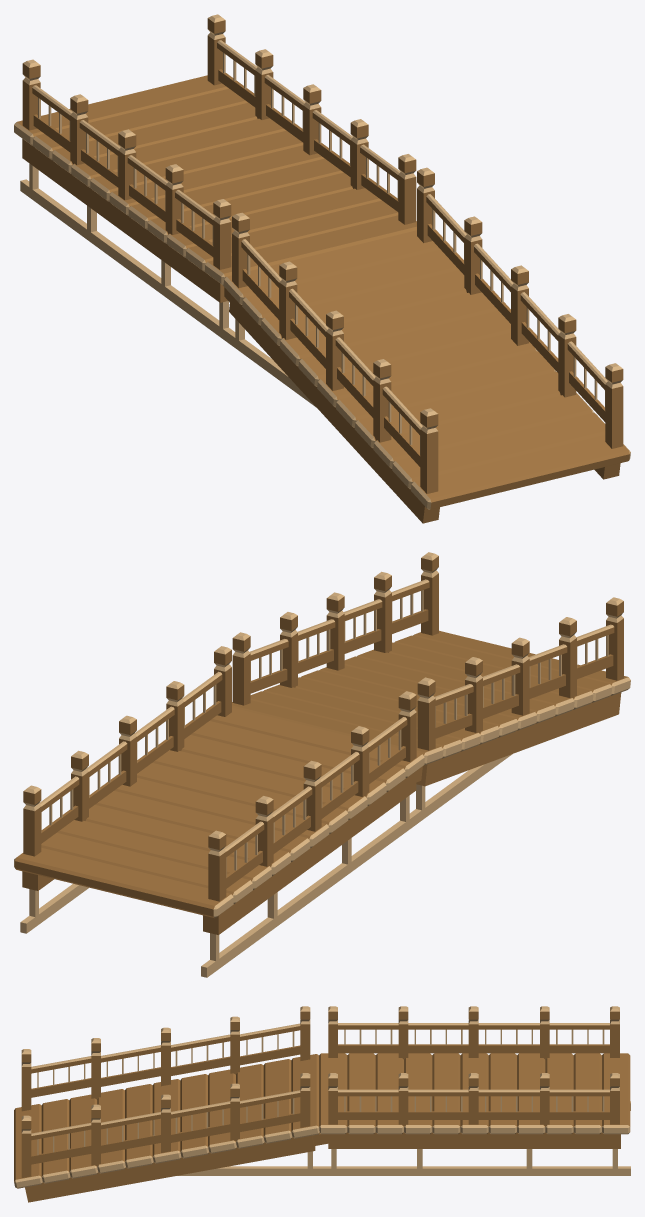
Rendered from woodenBridge.fbx.
3 views of the same model, one above another, from view 1: azimuth 30°, elevation 25°; view 2: azimuth 150°, elevation 25°; view 3: azimuth 270°, elevation 25° (orthographic). The views are drawn at different scales.
Parts seen in each view (by area): view 1: woodenBridge_Angled, woodenBridge_Straight; view 2: woodenBridge_Straight, woodenBridge_Angled; view 3: woodenBridge_Straight, woodenBridge_Angled.
Part boxes in pixels (left/top/right/bottom): woodenBridge_Angled: left=223, top=167, right=630, bottom=523; woodenBridge_Straight: left=14, top=14, right=416, bottom=345; woodenBridge_Straight: left=14, top=646, right=424, bottom=977; woodenBridge_Angled: left=232, top=552, right=630, bottom=822; woodenBridge_Straight: left=318, top=1006, right=630, bottom=1175; woodenBridge_Angled: left=14, top=1006, right=328, bottom=1202.
Size of the model in its own units: 237 by 190 by 840.
